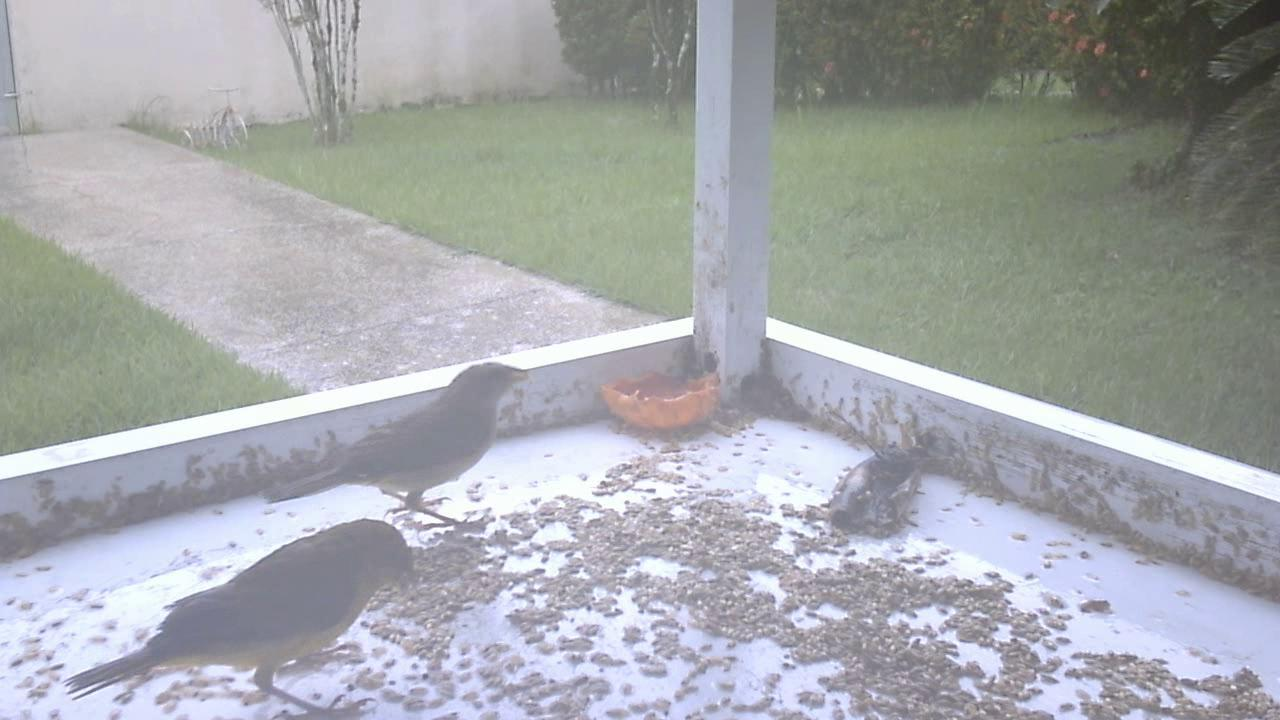canario_do_amazonas: (52, 510, 431, 715), (290, 356, 537, 543)
